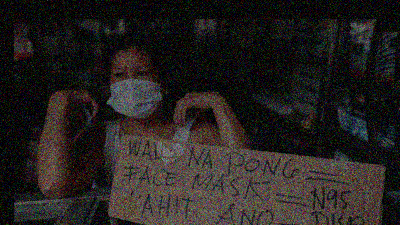with_mask: (106, 63, 163, 119)
